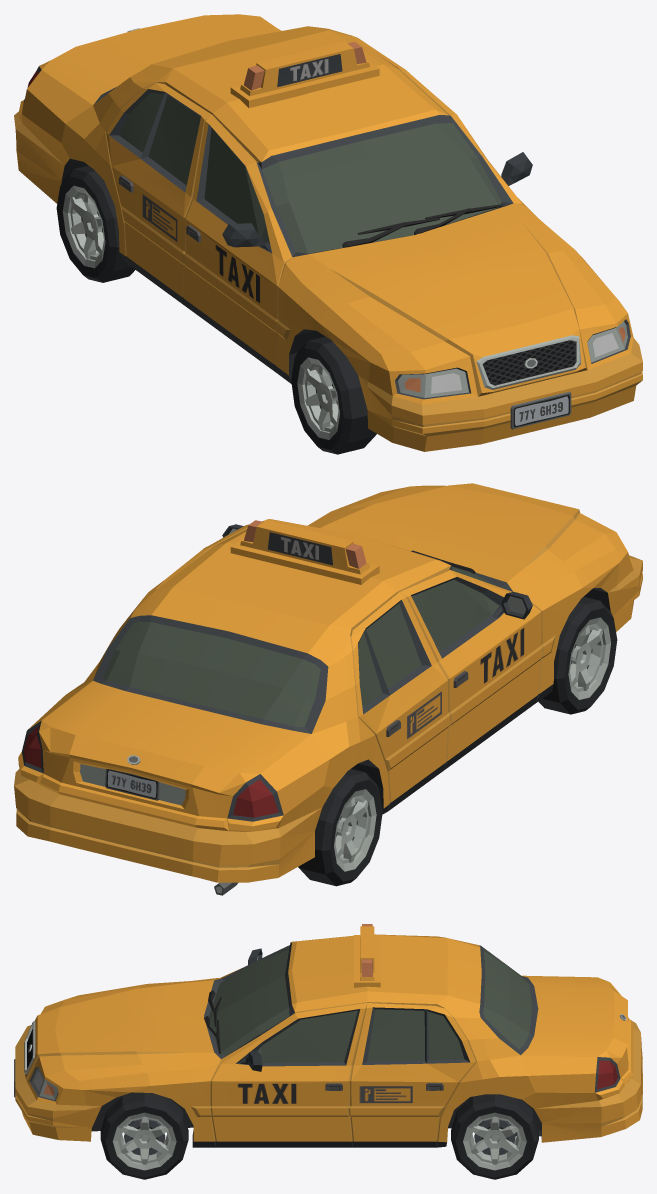
File: city_taxi_car.glb
3 views of the same model, one above another, from view 1: azimuth 30°, elevation 25°; view 2: azimuth 150°, elevation 25°; view 3: azimuth 270°, elevation 25° (orthographic). The views are drawn at different scales.
Parts seen in each view (by area): view 1: SM_Veh_Car_Taxi_01_PolygonCity_Texture_01_A_0, SM_Veh_Car_Taxi_Glass_PolygonCity_Glass_Veh_Mat_0, SM_Veh_Car_Taxi_Wheel_fr_PolygonCity_Mat_01_A_0, SM_Veh_Car_Taxi_Wheel_rr_PolygonCity_Mat_01_A_0, SM_Veh_Car_Taxi_Plates_PolygonCity_Mat_01_A_0; view 2: SM_Veh_Car_Taxi_01_PolygonCity_Texture_01_A_0, SM_Veh_Car_Taxi_Glass_PolygonCity_Glass_Veh_Mat_0, SM_Veh_Car_Taxi_Wheel_rr_PolygonCity_Mat_01_A_0, SM_Veh_Car_Taxi_Wheel_fr_PolygonCity_Mat_01_A_0, SM_Veh_Car_Taxi_Plates_PolygonCity_Mat_01_A_0; view 3: SM_Veh_Car_Taxi_01_PolygonCity_Texture_01_A_0, SM_Veh_Car_Taxi_Glass_PolygonCity_Glass_Veh_Mat_0, SM_Veh_Car_Taxi_Wheel_fl_PolygonCity_Mat_01_A_0, SM_Veh_Car_Taxi_Wheel_rl_PolygonCity_Mat_01_A_0.
Boxes of the visible parts, left/top/right/bottom form: SM_Veh_Car_Taxi_01_PolygonCity_Texture_01_A_0: left=14, top=14, right=642, bottom=451; SM_Veh_Car_Taxi_Glass_PolygonCity_Glass_Veh_Mat_0: left=119, top=92, right=501, bottom=253; SM_Veh_Car_Taxi_Wheel_fr_PolygonCity_Mat_01_A_0: left=291, top=336, right=376, bottom=454; SM_Veh_Car_Taxi_Wheel_rr_PolygonCity_Mat_01_A_0: left=56, top=165, right=135, bottom=282; SM_Veh_Car_Taxi_Plates_PolygonCity_Mat_01_A_0: left=510, top=391, right=571, bottom=429; SM_Veh_Car_Taxi_01_PolygonCity_Texture_01_A_0: left=14, top=483, right=642, bottom=895; SM_Veh_Car_Taxi_Glass_PolygonCity_Glass_Veh_Mat_0: left=103, top=566, right=499, bottom=727; SM_Veh_Car_Taxi_Wheel_rr_PolygonCity_Mat_01_A_0: left=298, top=769, right=382, bottom=886; SM_Veh_Car_Taxi_Wheel_fr_PolygonCity_Mat_01_A_0: left=538, top=596, right=617, bottom=714; SM_Veh_Car_Taxi_Plates_PolygonCity_Mat_01_A_0: left=105, top=768, right=160, bottom=800; SM_Veh_Car_Taxi_01_PolygonCity_Texture_01_A_0: left=15, top=924, right=642, bottom=1147; SM_Veh_Car_Taxi_Glass_PolygonCity_Glass_Veh_Mat_0: left=208, top=947, right=532, bottom=1062; SM_Veh_Car_Taxi_Wheel_fl_PolygonCity_Mat_01_A_0: left=100, top=1092, right=188, bottom=1179; SM_Veh_Car_Taxi_Wheel_rl_PolygonCity_Mat_01_A_0: left=451, top=1094, right=538, bottom=1179.
Size of the model in its own units: 2.17 by 1.72 by 5.18.
3 materials, 3 textured.
